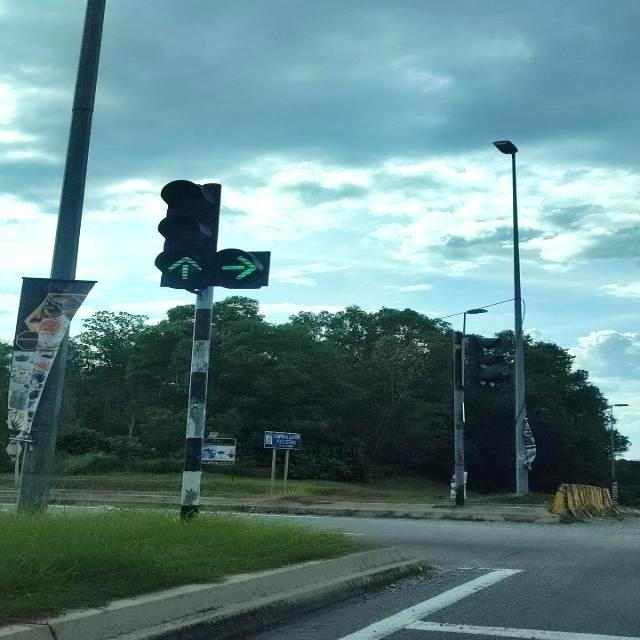Green: (156, 178, 220, 288), (212, 180, 270, 288)
